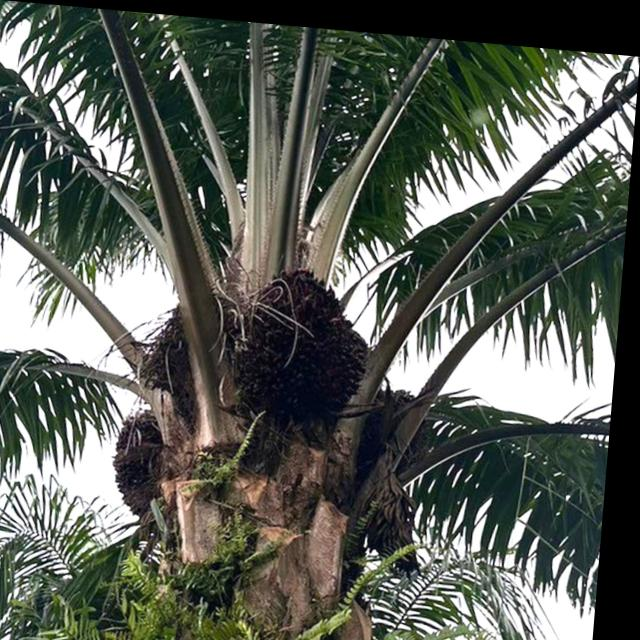ripe: (228, 247, 401, 439)
